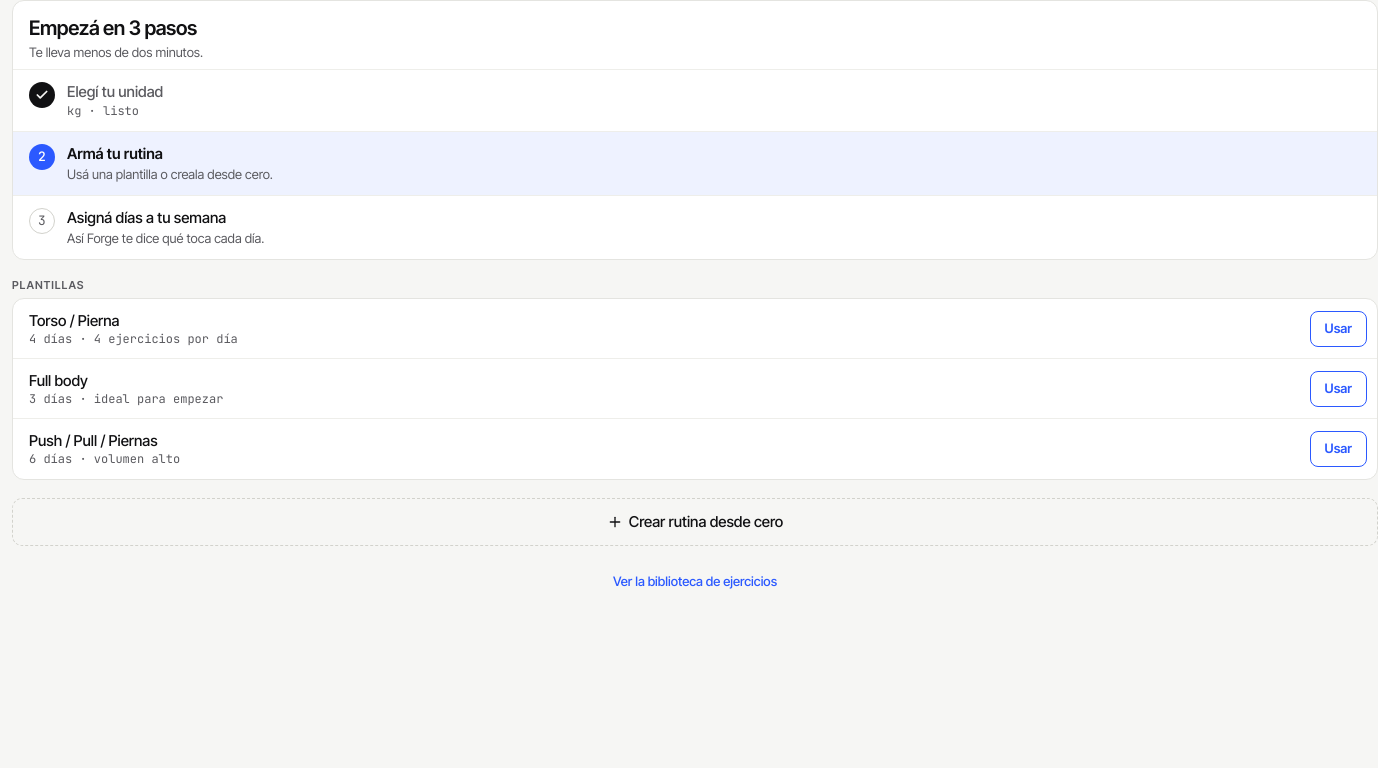
Scenario: FgFirstUseComponent › shows an alert and lets the user retry when applying fails
Step 1. Click the button "Usar" in the row of "Full body" → coordinates (1338, 388), box [1310,370,1367,406]
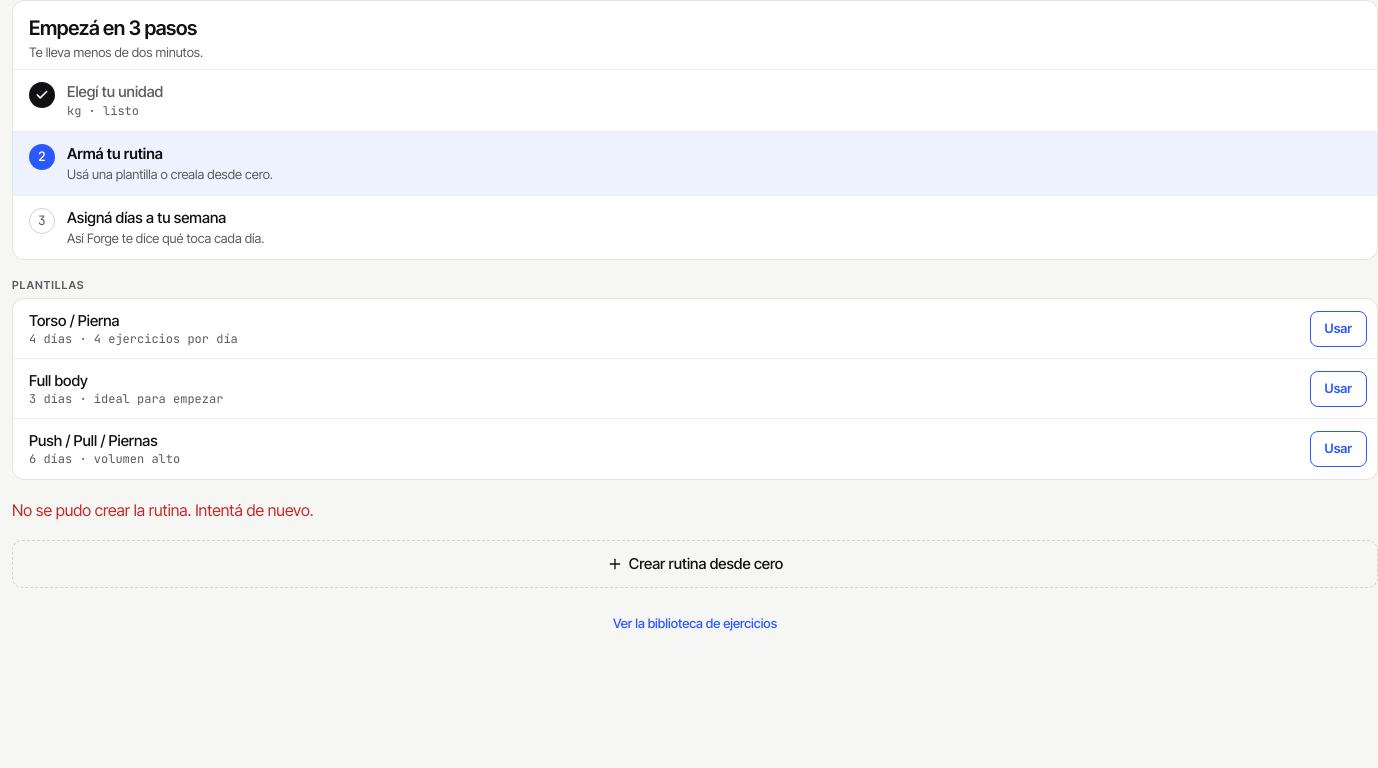
Now the message "No se pudo crear la rutina. Intentá de nuevo." is shown, box [12,500,314,520]
Step 2. Click the button "Usar" in the row of "Full body" → coordinates (1338, 388), box [1310,370,1367,406]
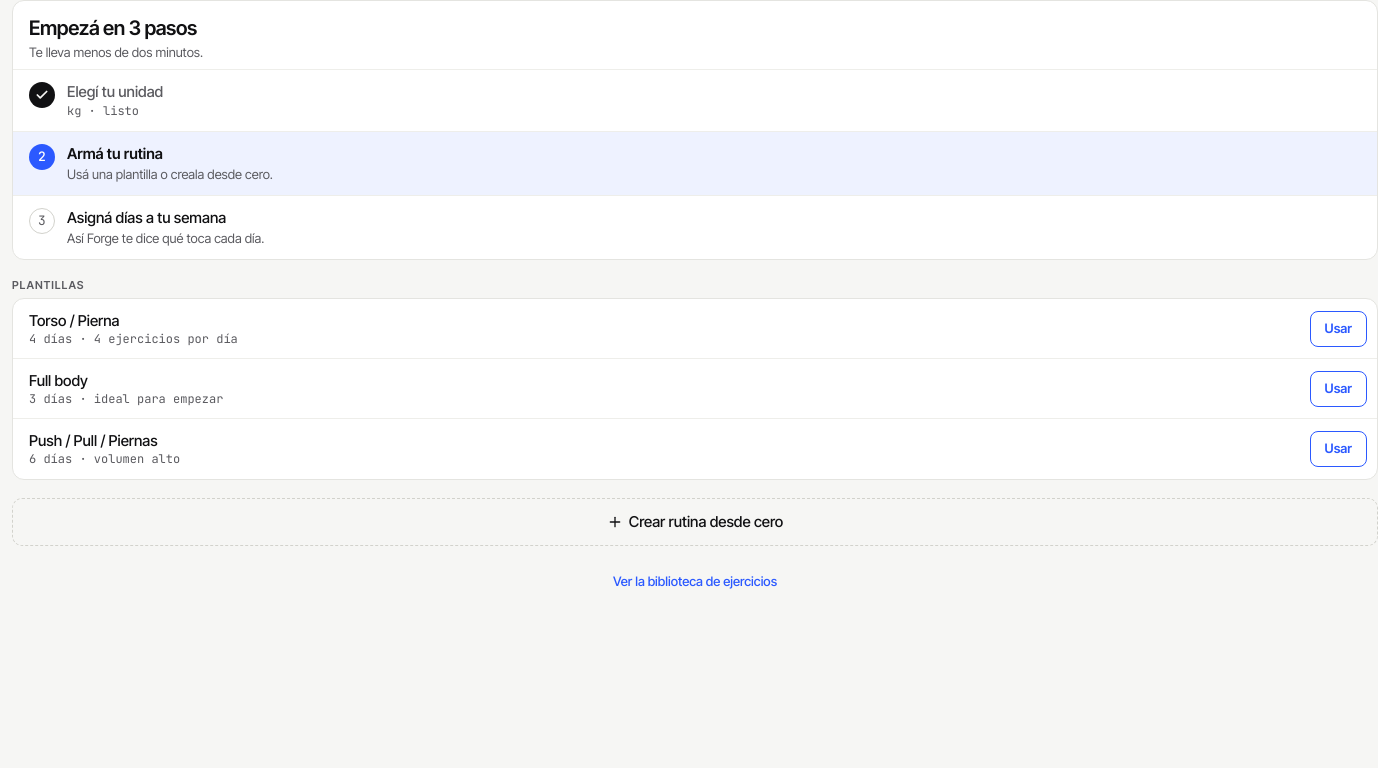
Now the message "No se pudo crear la rutina. Intentá de nuevo." is gone
